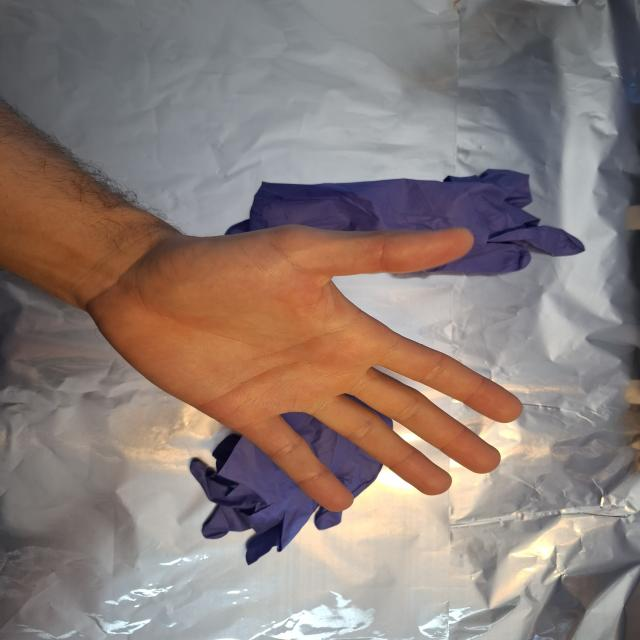glove_off: (86, 221, 526, 515)
